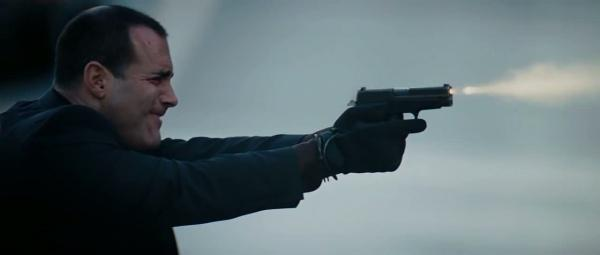Gun: (352, 83, 455, 119)
